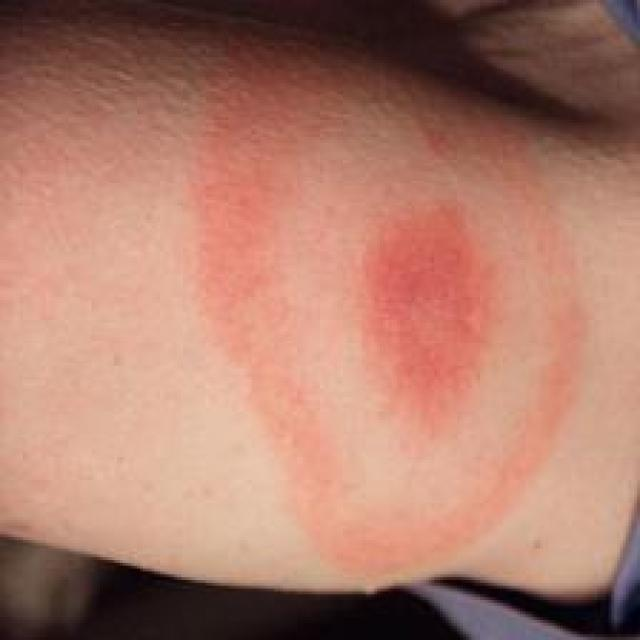kene: (117, 18, 640, 628)
